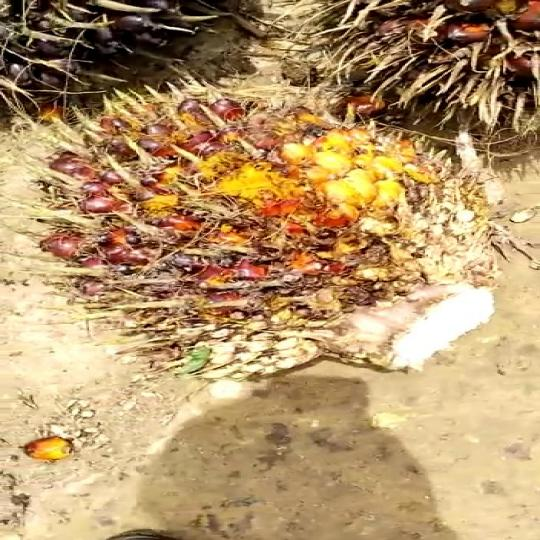masak: (38, 73, 487, 403)
